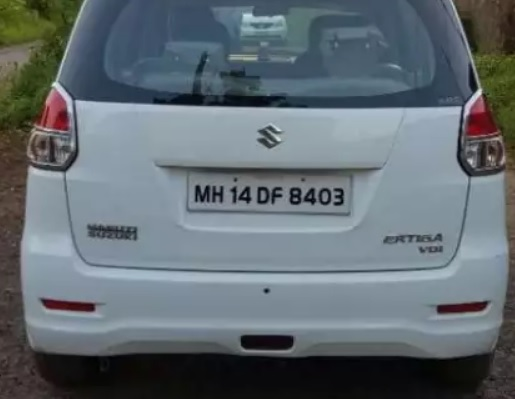licenseplate: (185, 166, 357, 217)
